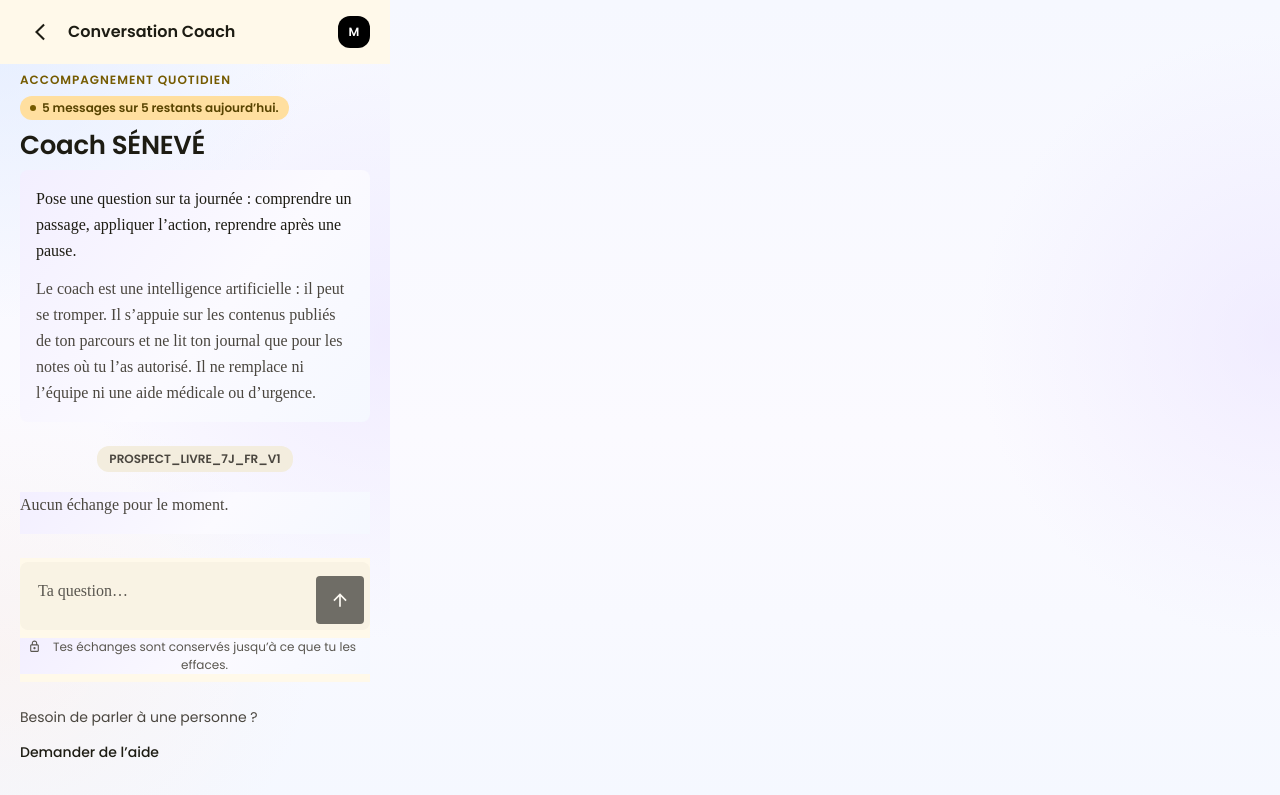
Scenario: Coach › envoi : même identifiant si on réessaie, puis réveil de n8n
Later steps or results of the test are not shown.
Type "Que veut dire ce passage ?" into the text box with placeholder "Ta question…" at (167, 592), box [26,568,308,616]
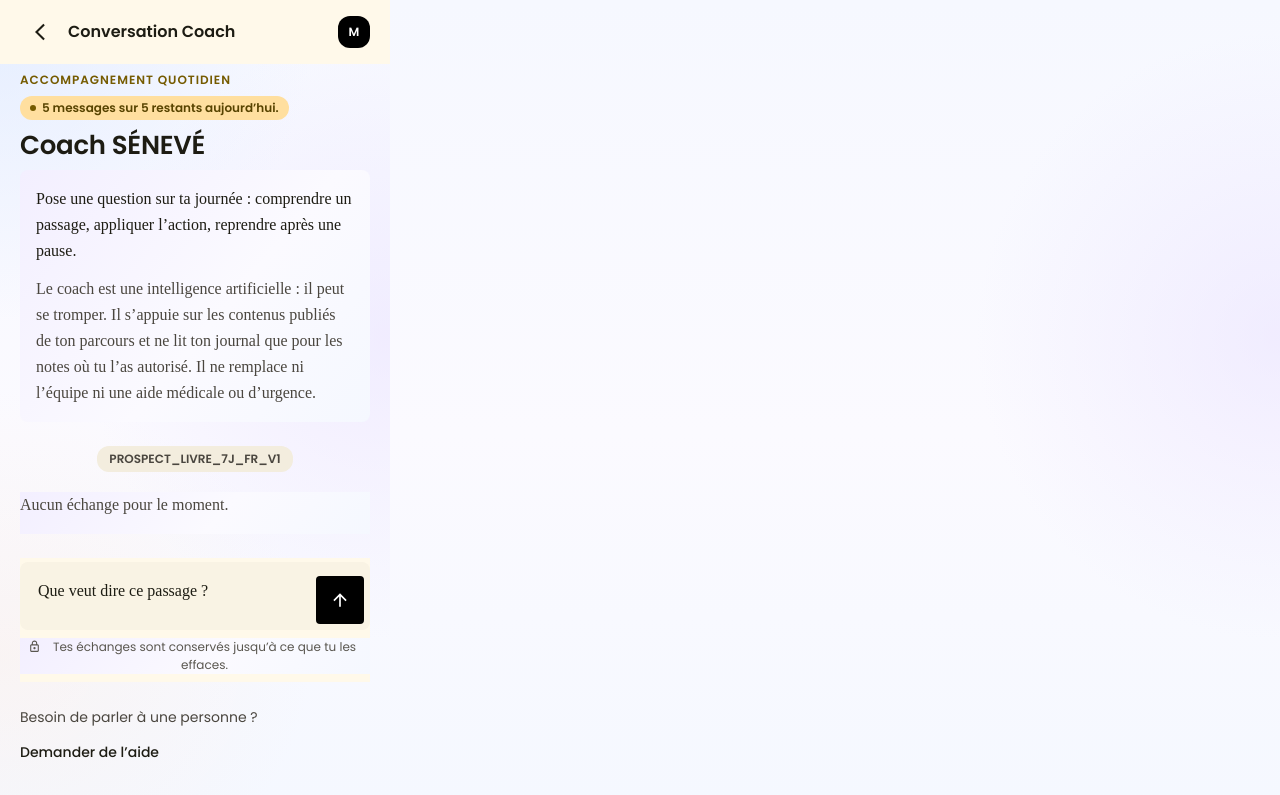
Click the button named "Envoyer" at (340, 600), box [316,576,364,624]
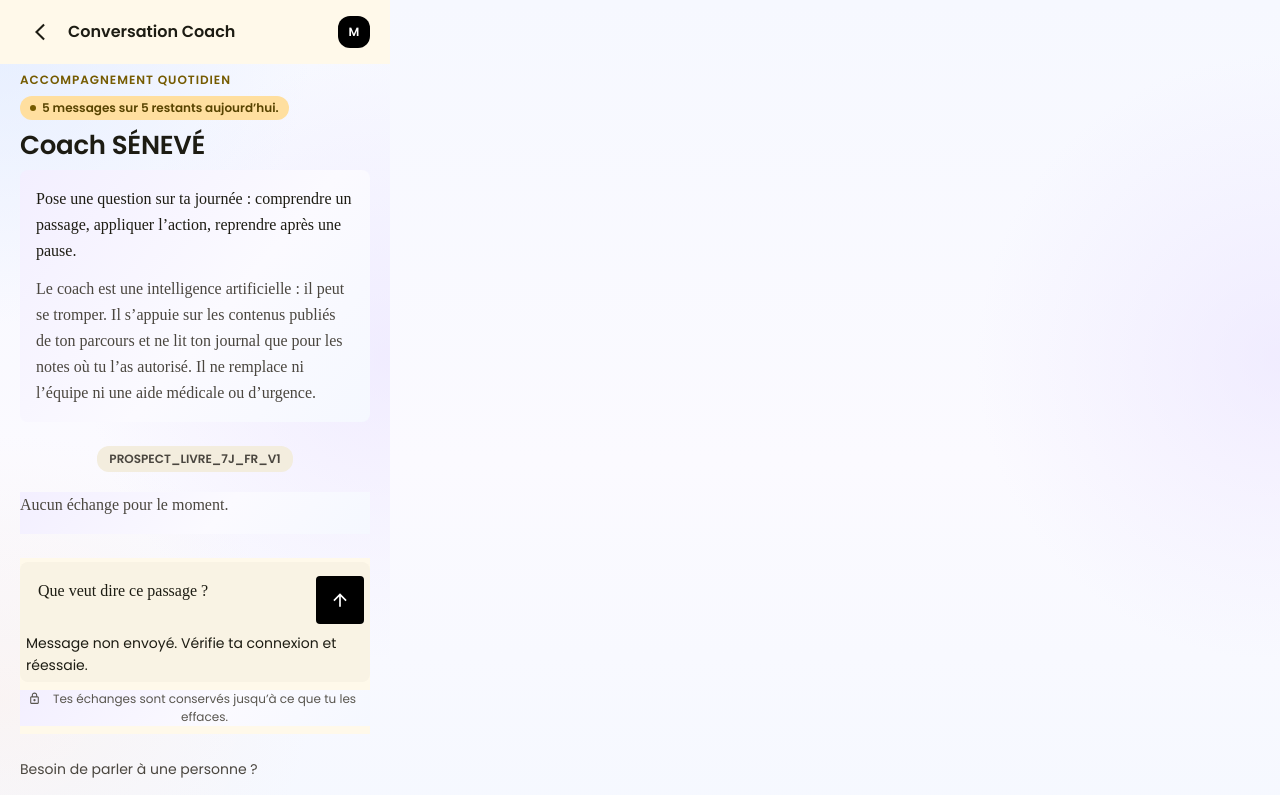
Now the text "Message non envoyé. Vérifie ta connexion et réessaie." is shown, box [26,632,364,676]
